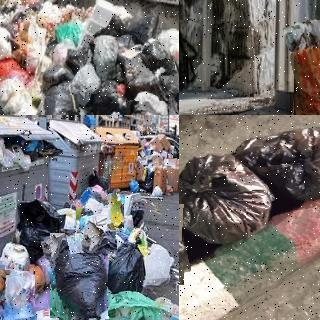Garbage: (179, 153, 274, 245), (234, 128, 320, 201), (45, 230, 112, 320), (13, 196, 75, 254), (95, 279, 171, 320), (288, 20, 320, 115), (109, 240, 148, 293), (75, 208, 117, 254), (0, 270, 37, 320), (32, 83, 86, 115), (143, 241, 176, 291), (84, 82, 129, 115), (136, 39, 173, 76), (0, 237, 33, 276), (82, 190, 111, 215), (126, 100, 170, 115), (108, 194, 125, 228)
